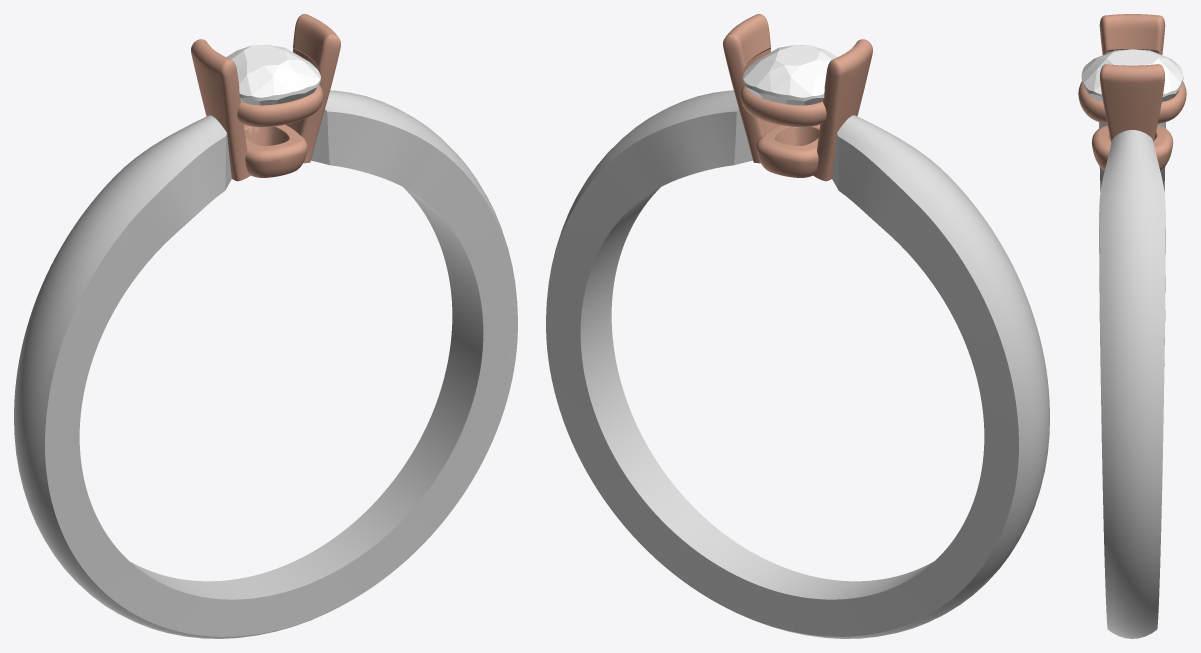
Rendered from SHWPINK.glb.
3 renders of one model, left to right at view 1: azimuth 30°, elevation 25°; view 2: azimuth 150°, elevation 25°; view 3: azimuth 270°, elevation 25°, orthographic. The views are drawn at different scales.
Visible parts, largest first — view 1: pink_PT_ring_PT_shank, pink_rose_for_3d_model, pink_dia_for_3d_model; view 2: pink_PT_ring_PT_shank, pink_rose_for_3d_model, pink_dia_for_3d_model; view 3: pink_PT_ring_PT_shank, pink_rose_for_3d_model, pink_dia_for_3d_model.
Part boxes in pixels (box(x1,y1,x2,y2)): pink_PT_ring_PT_shank: box(14, 90, 517, 638); pink_rose_for_3d_model: box(191, 14, 340, 181); pink_dia_for_3d_model: box(226, 44, 320, 127); pink_PT_ring_PT_shank: box(546, 90, 1049, 638); pink_rose_for_3d_model: box(723, 14, 872, 181); pink_dia_for_3d_model: box(743, 45, 837, 127); pink_PT_ring_PT_shank: box(1099, 122, 1165, 638); pink_rose_for_3d_model: box(1078, 14, 1186, 170); pink_dia_for_3d_model: box(1081, 49, 1183, 101).
Bounding box in the file's own units: 2.59 × 3 × 0.5138.
